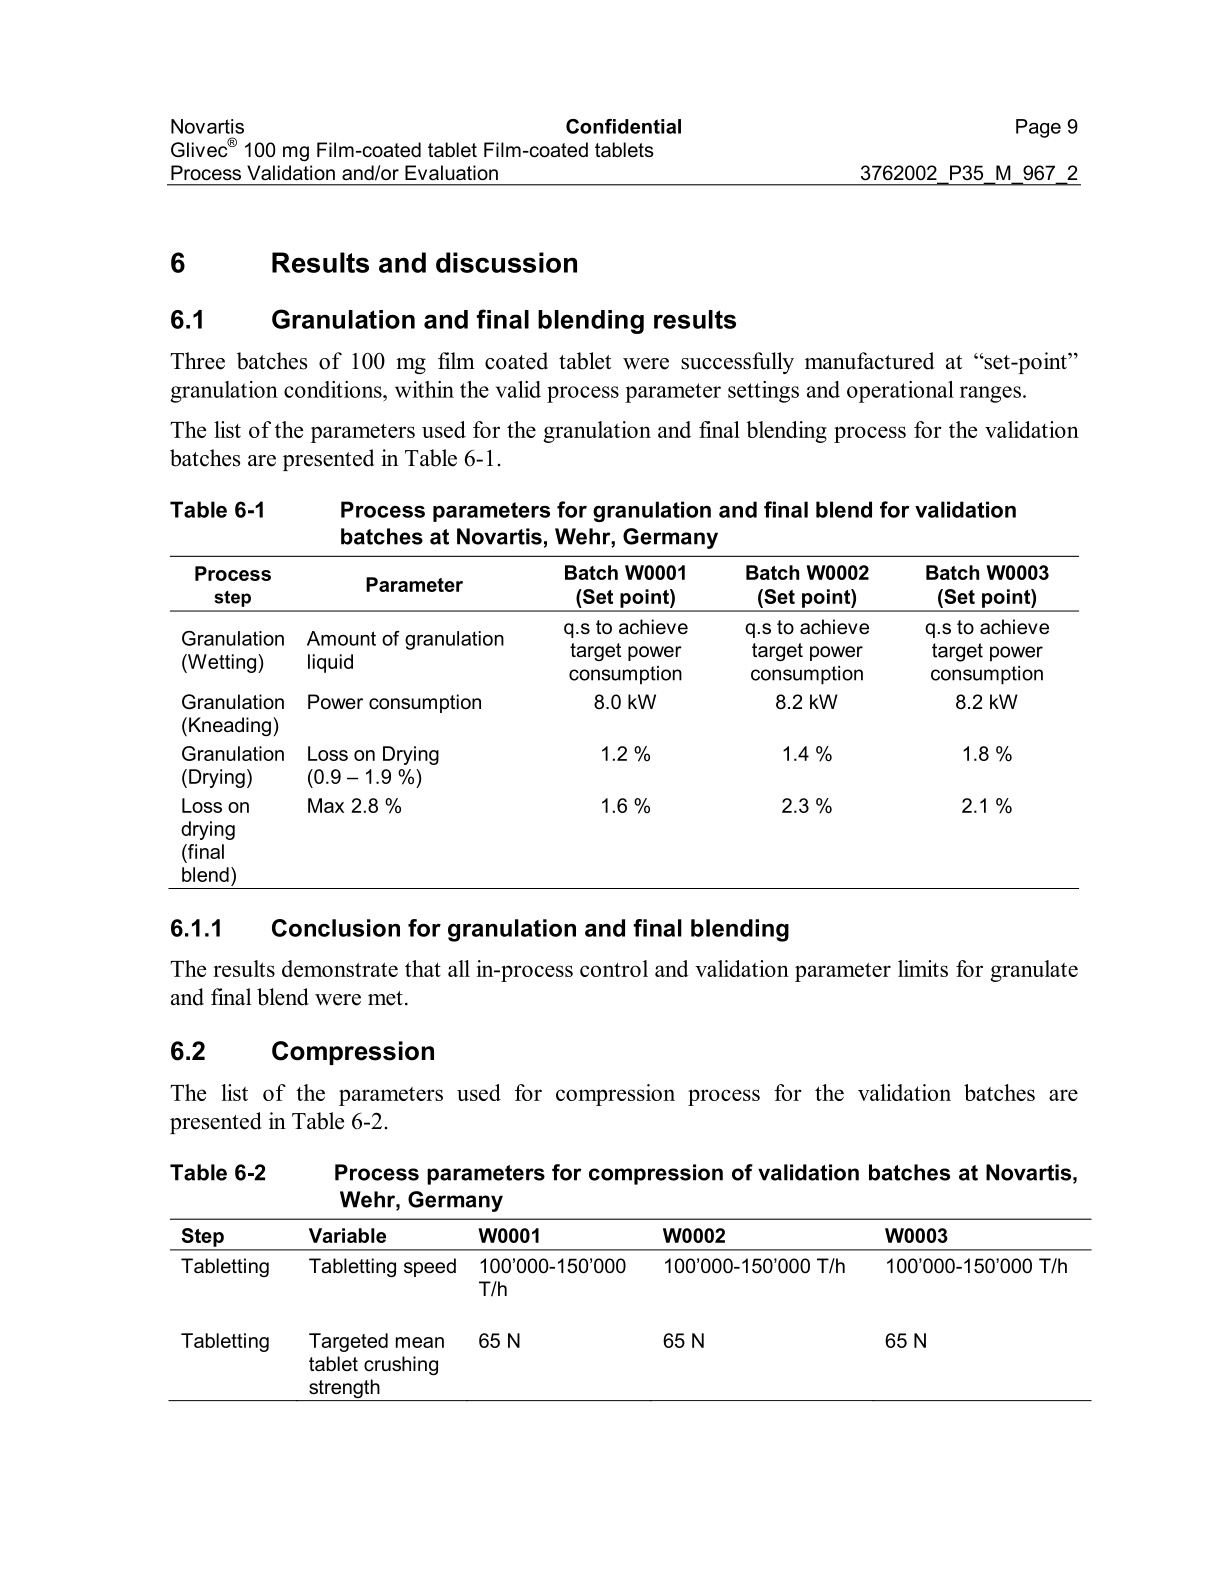partial_lined: (168, 555, 1080, 890), (170, 1218, 1093, 1403)
